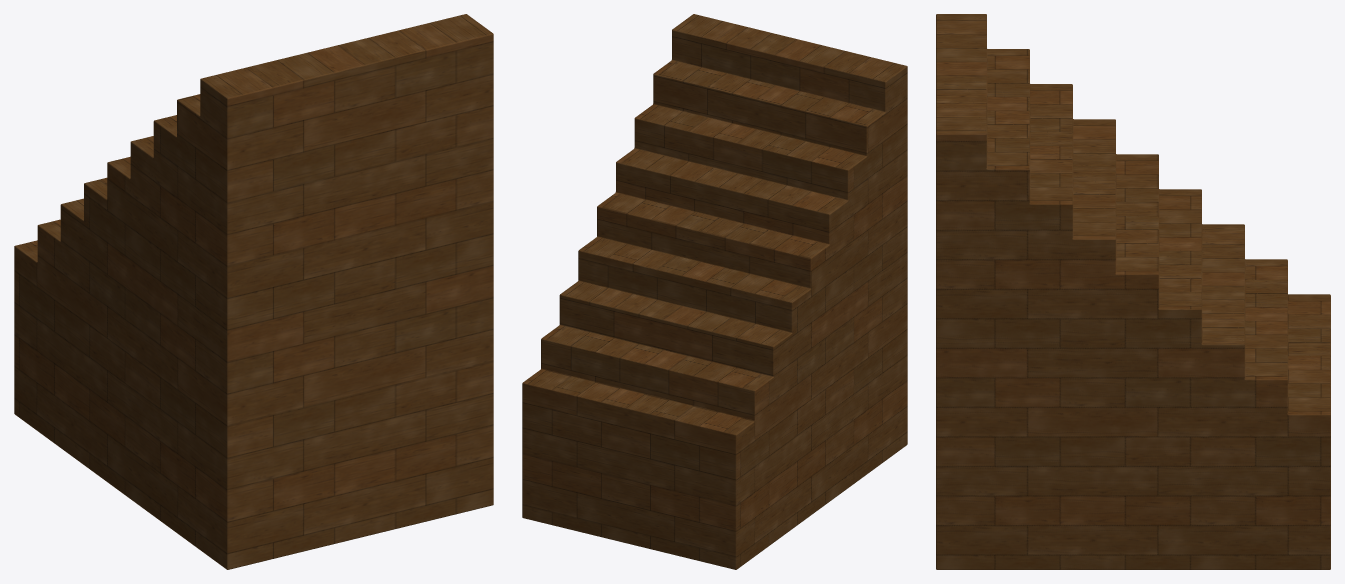
Rendered from AslanHouseStairs2.fbx.
3 views of the same model, side by side, from view 1: azimuth 30°, elevation 25°; view 2: azimuth 150°, elevation 25°; view 3: azimuth 270°, elevation 25° (orthographic). The views are drawn at different scales.
Visible parts, largest first — view 1: Plane.005; view 2: Plane.005; view 3: Plane.005.
Part boxes in pixels (x1,y1,x2,y2): Plane.005: (14, 14, 493, 569); Plane.005: (522, 14, 907, 569); Plane.005: (936, 14, 1330, 569).
Bounding box in the file's own units: 238 × 402 × 330.
Materials: 1 (1 with a texture image).
